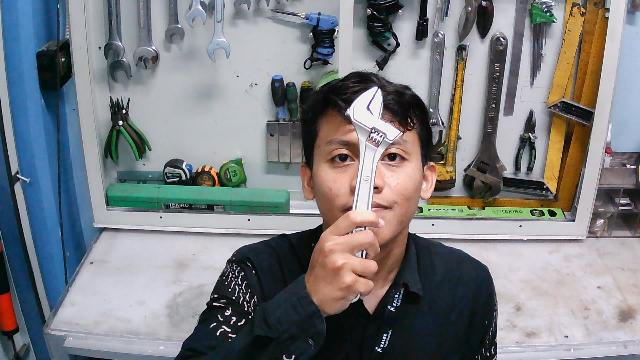kunci_inggris: (342, 82, 403, 303)
